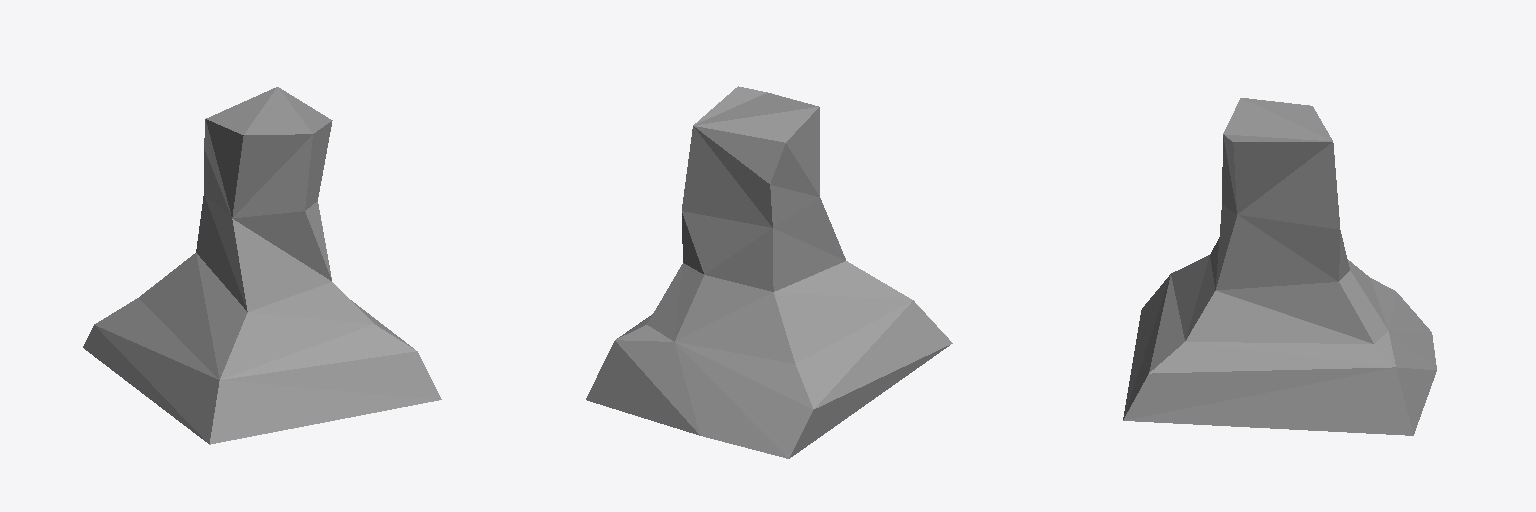
The model's file is Low_Poly_Cuboid_Rock_011.obj.
The picture shows the model from 3 angles: view 1: azimuth 30°, elevation 25°; view 2: azimuth 150°, elevation 25°; view 3: azimuth 270°, elevation 25°; orthographic projection.
Parts seen in each view (by area): view 1: Low_Poly_Cuboid_Rock_011_Cube.001; view 2: Low_Poly_Cuboid_Rock_011_Cube.001; view 3: Low_Poly_Cuboid_Rock_011_Cube.001.
Boxes of the visible parts, x1=… form: Low_Poly_Cuboid_Rock_011_Cube.001: x1=83, y1=87, x2=441, y2=444; Low_Poly_Cuboid_Rock_011_Cube.001: x1=586, y1=86, x2=952, y2=458; Low_Poly_Cuboid_Rock_011_Cube.001: x1=1123, y1=98, x2=1436, y2=435.
Bounding box in the file's own units: 16.4 × 19.32 × 19.28.